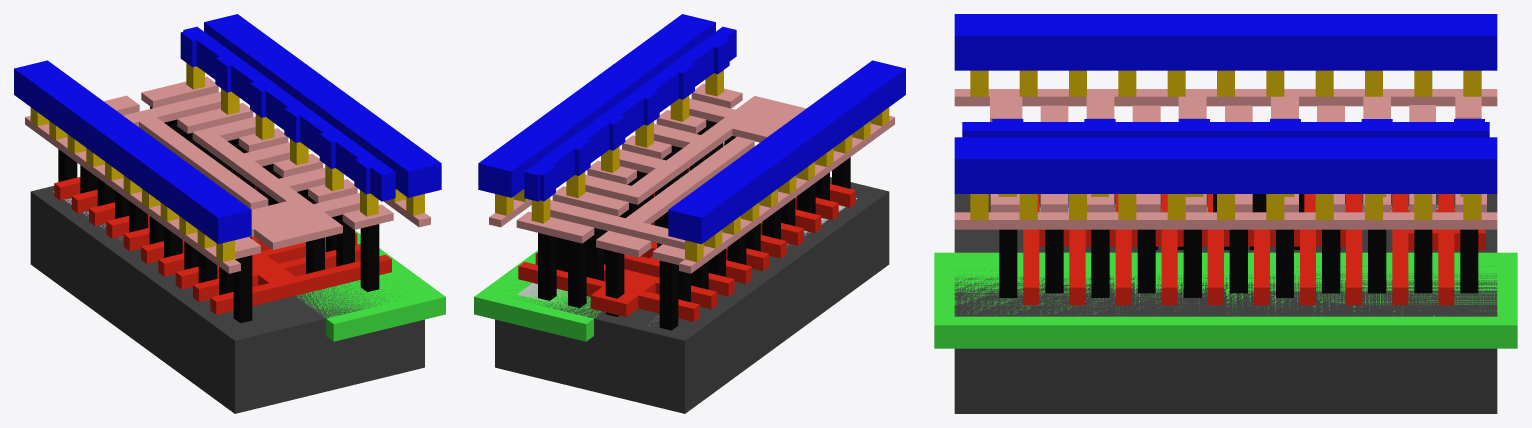
The model's file is sky130_fd_sc_hd__lpflow_clkbufkapwr_8.obj.
3 renders of one model, left to right at view 1: azimuth 30°, elevation 25°; view 2: azimuth 150°, elevation 25°; view 3: azimuth 270°, elevation 25°, orthographic. The views are drawn at different scales.
Visible parts, largest first — view 1: subs, metal1, li, poly, licon, nwell, mcon; view 2: metal1, subs, li, licon, poly, mcon, nwell; view 3: metal1, subs, nwell, li, poly, licon, mcon.
Part boxes in pixels (box(x1,y1,x2,y2)): subs: box(30, 186, 424, 413); metal1: box(14, 14, 441, 244); li: box(25, 76, 430, 273); poly: box(54, 177, 391, 314); licon: box(58, 106, 379, 323); nwell: box(296, 230, 445, 341); mcon: box(30, 63, 424, 262); metal1: box(478, 14, 905, 244); subs: box(495, 177, 889, 413); li: box(489, 83, 894, 273); licon: box(538, 120, 850, 330); poly: box(518, 167, 855, 321); mcon: box(495, 70, 889, 262); nwell: box(474, 143, 724, 341); metal1: box(954, 14, 1497, 193); subs: box(954, 194, 1497, 413); nwell: box(934, 252, 1517, 348); li: box(954, 89, 1497, 229); poly: box(1023, 194, 1485, 305); licon: box(999, 194, 1478, 297); mcon: box(970, 70, 1481, 219).
Bounding box in the file's own units: 3.2 × 2.74 × 5.44.
